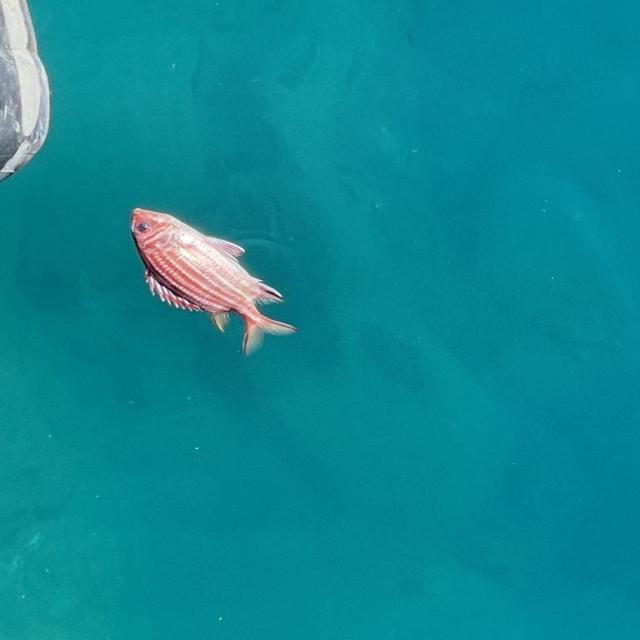Asker Baligi: (128, 206, 298, 356)
